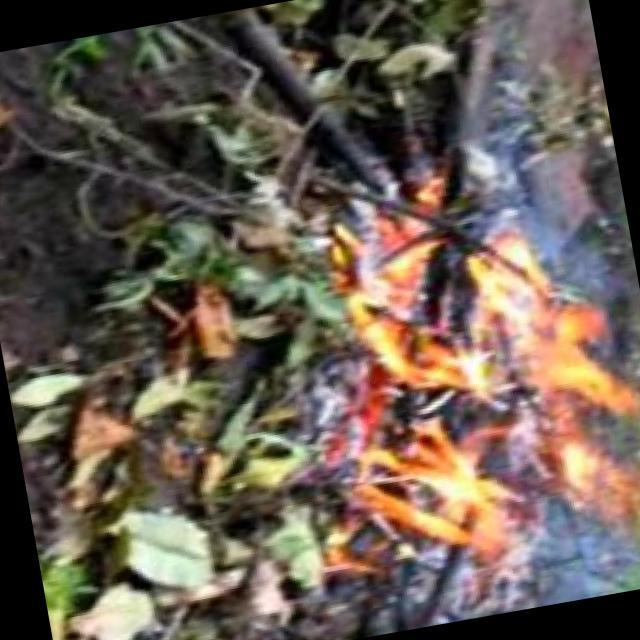Fire: (324, 177, 640, 562)
